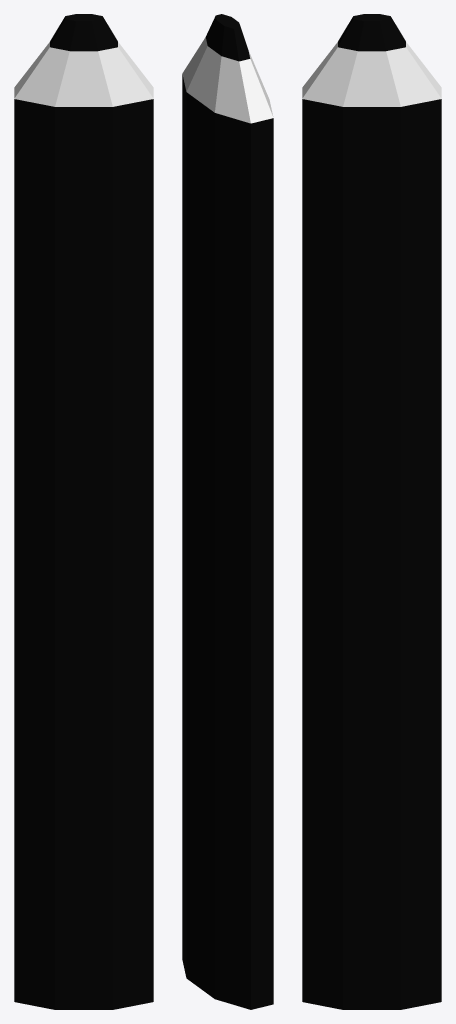
The model's file is pencil06.gltf.
The picture shows the model from 3 angles, left to right: view 1: azimuth 90°, elevation 25°; view 2: azimuth 210°, elevation 25°; view 3: azimuth 270°, elevation 25°; orthographic projection.
Visible parts, largest first — view 1: Cylinder; view 2: Cylinder; view 3: Cylinder.
Part boxes in pixels (bbox=[...]): Cylinder: bbox=[14, 14, 153, 1009]; Cylinder: bbox=[182, 14, 273, 1009]; Cylinder: bbox=[302, 14, 441, 1009].
Bounding box in the file's own units: 0.00656 × 0.11 × 0.0142.
Materials: 1 (1 with a texture image).
